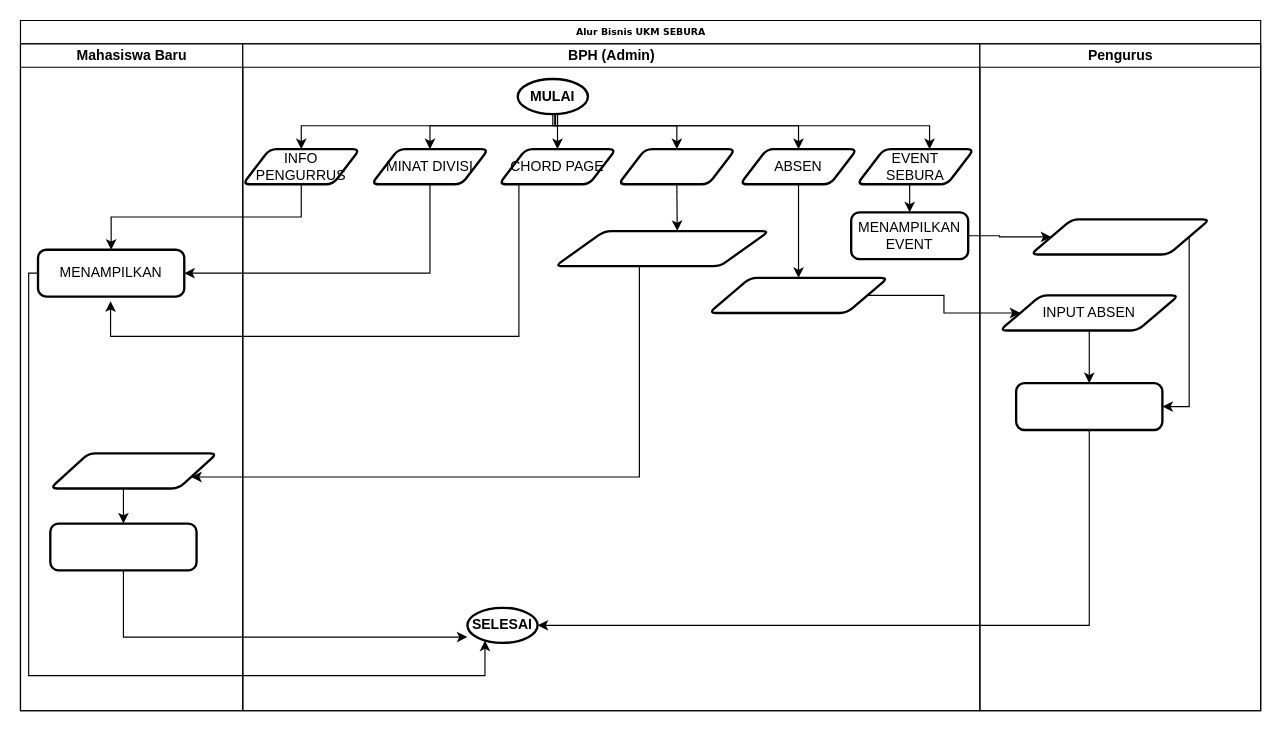
Some shapes in this 1281 by 731 pixel diagram are drawn without their labels. The centre of each missing label's shape, as x and y in pixels:
FORM PENDAFTARAN: (661,248)
LOGIN: (798,295)
MENDAFTAR: (133,470)
OPREC: (676,166)
PENDAFTARAN PANITA EVENT: (1119,236)
PROSES: (1088,406)
PROSES WAWANCARA: (123,546)
